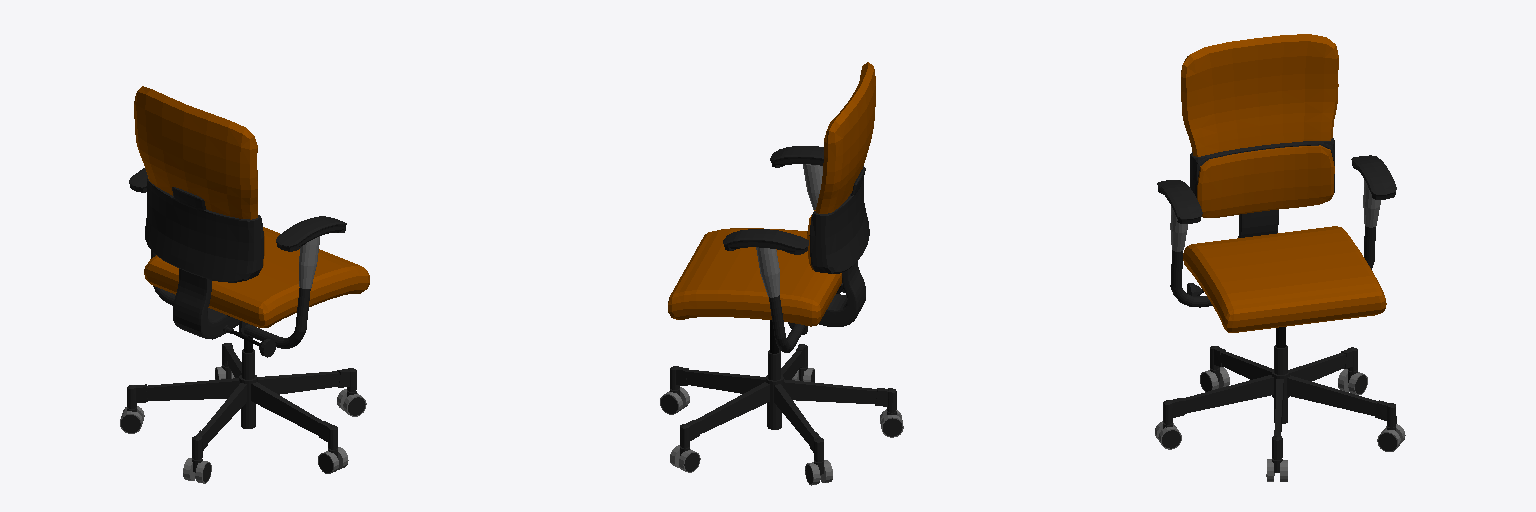
The model's file is office_chair.obj.
3 renders of one model, left to right at view 1: azimuth 30°, elevation 25°; view 2: azimuth 150°, elevation 25°; view 3: azimuth 270°, elevation 25°, orthographic.
Parts seen in each view (by area): view 1: sillaOfi_respaldo_Cube.008, sillaOfi_ruedas_Cube.009, sillaOfi_soporte_Cube.005; view 2: sillaOfi_respaldo_Cube.008, sillaOfi_ruedas_Cube.009, sillaOfi_soporte_Cube.005; view 3: sillaOfi_respaldo_Cube.008, sillaOfi_ruedas_Cube.009, sillaOfi_soporte_Cube.005.
Boxes of the visible parts, <box> form: sillaOfi_respaldo_Cube.008: <box>129,86,369,339</box>; sillaOfi_ruedas_Cube.009: <box>120,343,366,483</box>; sillaOfi_soporte_Cube.005: <box>151,236,319,428</box>; sillaOfi_respaldo_Cube.008: <box>668,62,875,334</box>; sillaOfi_ruedas_Cube.009: <box>660,344,903,485</box>; sillaOfi_soporte_Cube.005: <box>756,164,845,429</box>; sillaOfi_respaldo_Cube.008: <box>1157,34,1396,332</box>; sillaOfi_ruedas_Cube.009: <box>1155,346,1405,481</box>; sillaOfi_soporte_Cube.005: <box>1170,180,1380,423</box>.
Bounding box in the file's own units: 0.7287 × 1.19 × 0.7588.